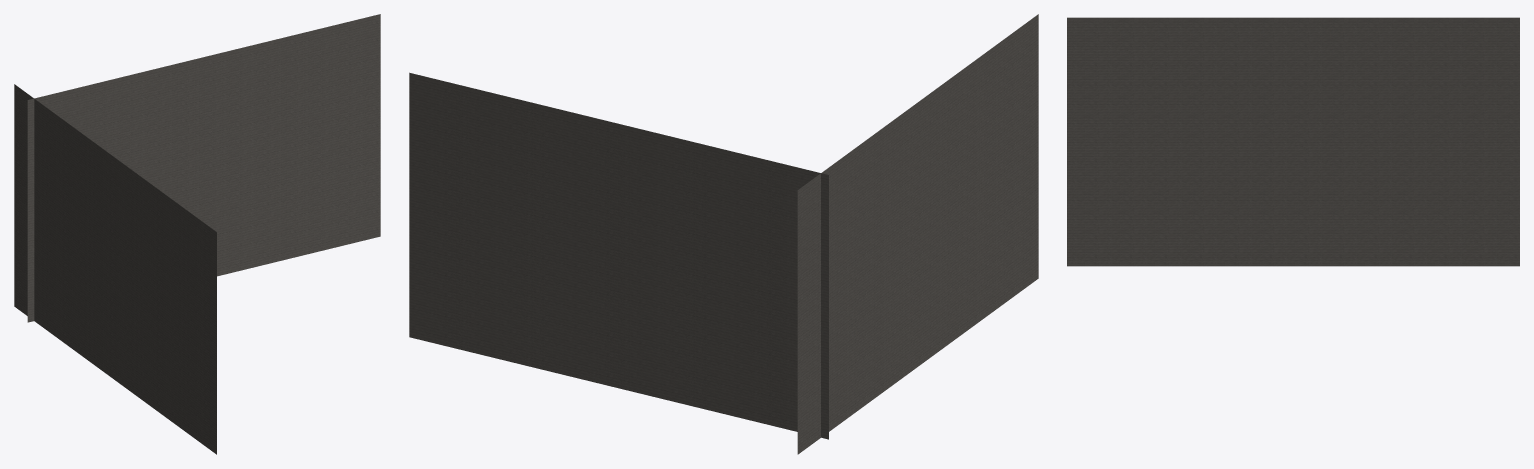
File: paredes.glb
The picture shows the model from 3 angles, left to right: view 1: azimuth 30°, elevation 25°; view 2: azimuth 150°, elevation 25°; view 3: azimuth 270°, elevation 25°; orthographic projection. The views are drawn at different scales.
Parts seen in each view (by area): view 1: Plane.002, Plane.001; view 2: Plane.002, Plane.001; view 3: Plane.001.
Part boxes in pixels (bbox=[...]): Plane.002: bbox=[27, 14, 380, 322]; Plane.001: bbox=[14, 84, 216, 454]; Plane.002: bbox=[409, 72, 828, 439]; Plane.001: bbox=[797, 14, 1038, 454]; Plane.001: bbox=[1067, 17, 1519, 266].
Size of the model in its own units: 22.19 by 13.37 by 22.07.
1 material, 1 textured.
